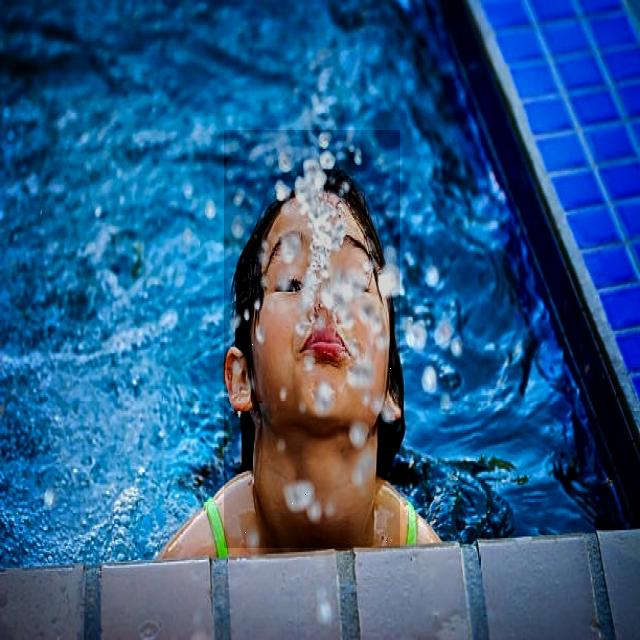Spitting: (224, 130, 400, 548)
